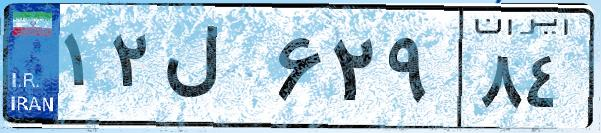1: (57, 26, 110, 100)
2: (330, 28, 385, 110), (110, 28, 158, 98)
4: (525, 38, 570, 115)
6: (270, 28, 330, 110)
8: (475, 38, 525, 113)
9: (385, 28, 445, 110)
ل: (158, 20, 270, 120)
